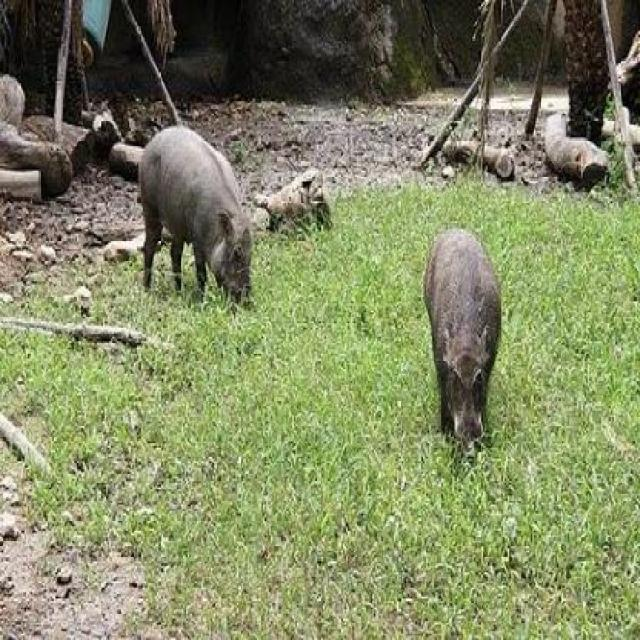wildboar: (132, 118, 266, 322), (419, 220, 503, 454)
